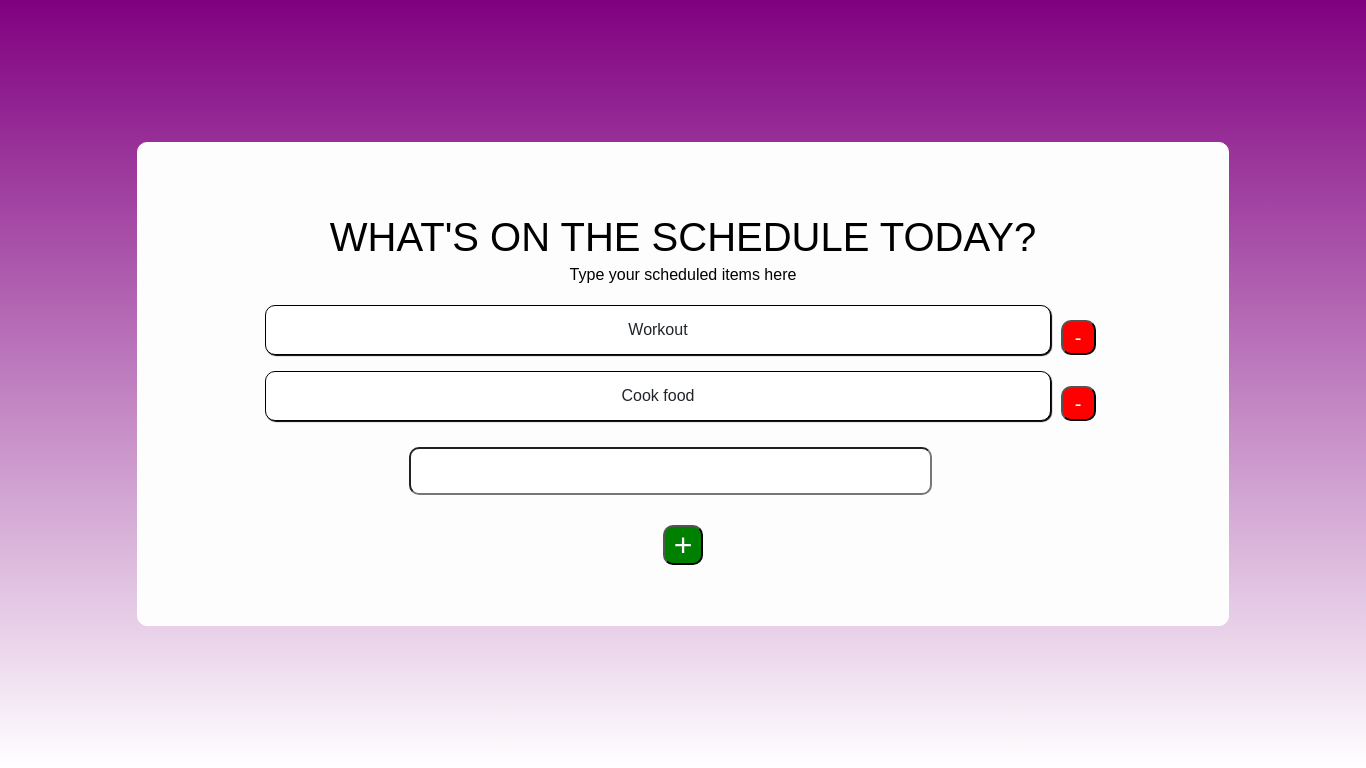
it: <ToDo/> › Deleting items › When the delete button is pressed for the first todo item, it removes the entire item
Expected: the number of elements with test id "todo-item" is 2, [247, 305, 1119, 371]; [247, 371, 1119, 437]
Click the button with test id "delete" in the row of "Workout" at (1078,338), box [1061, 320, 1096, 355]
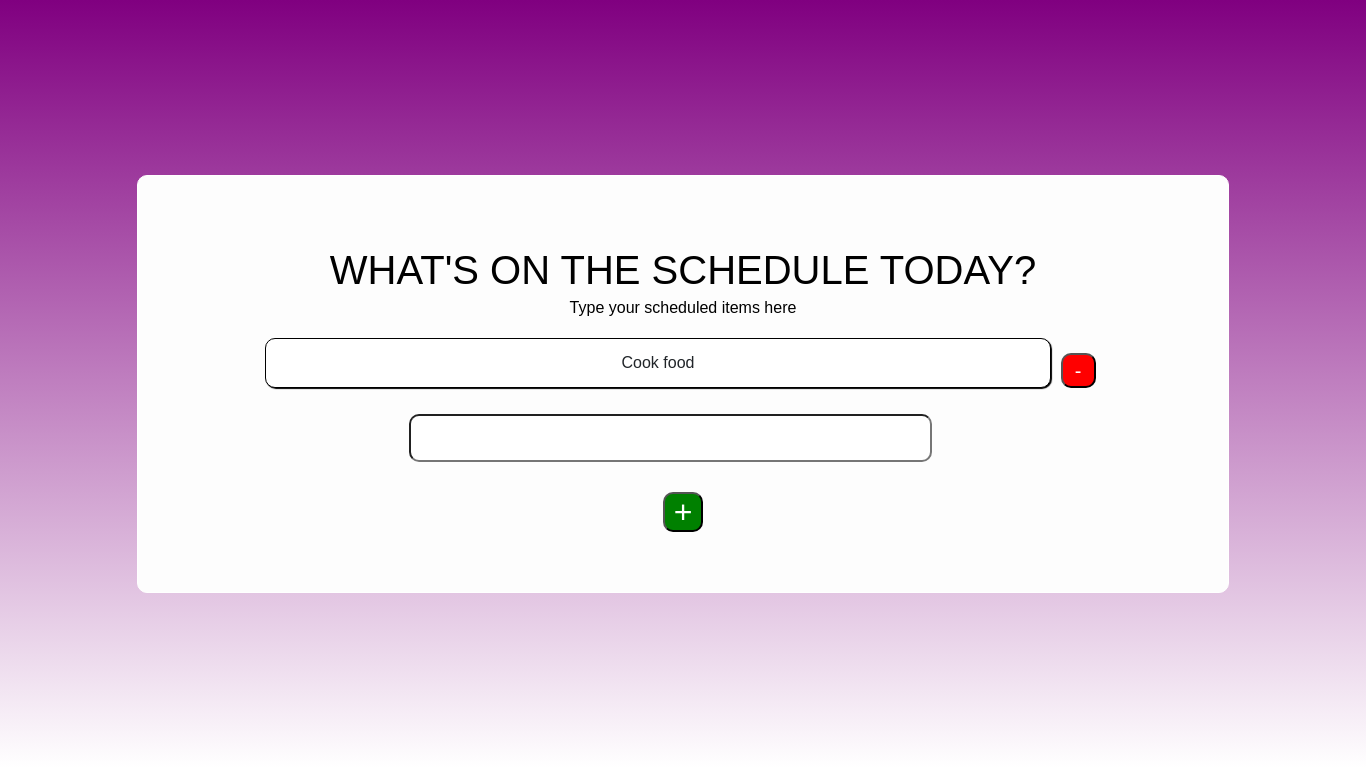
Expected: the number of elements with test id "todo-item" is 1, [247, 338, 1119, 404]
